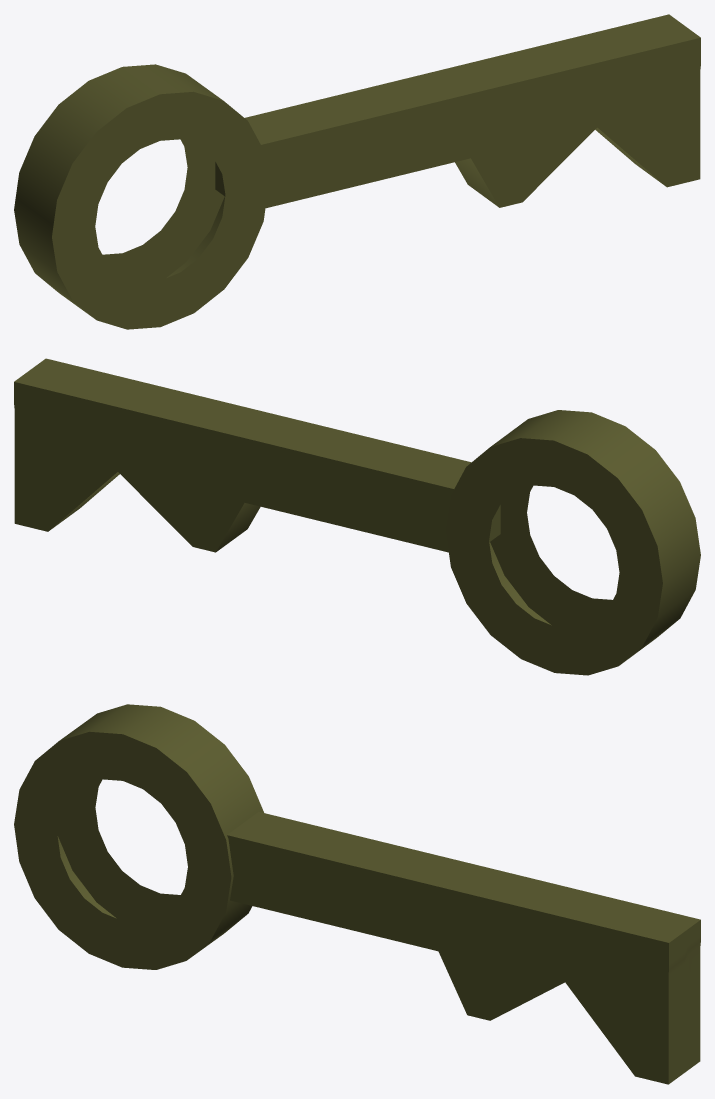
File: key.fbx
3 views of the same model, one above another, from view 1: azimuth 30°, elevation 25°; view 2: azimuth 150°, elevation 25°; view 3: azimuth 330°, elevation 25° (orthographic).
Parts seen in each view (by area): view 1: pCube1, pCylinder1; view 2: pCube1, pCylinder1; view 3: pCube1, pCylinder1.
Part boxes in pixels (x1=…): pCube1: x1=215, y1=14, x2=700, y2=208; pCylinder1: x1=14, y1=64, x2=268, y2=329; pCube1: x1=14, y1=358, x2=500, y2=552; pCylinder1: x1=445, y1=410, x2=700, y2=675; pCube1: x1=227, y1=812, x2=700, y2=1084; pCylinder1: x1=14, y1=704, x2=263, y2=969.
Bounding box in the file's own units: 11.81 × 4.03 × 1.21.
